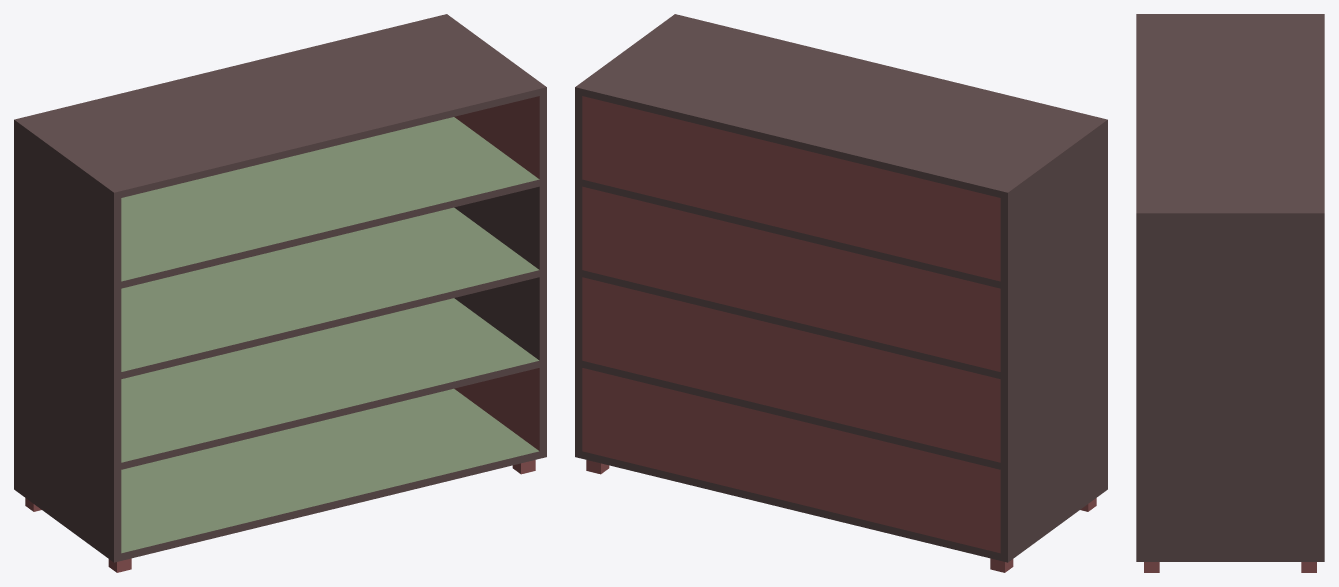
Rendered from shelf5.obj.
3 views of the same model, side by side, from view 1: azimuth 30°, elevation 25°; view 2: azimuth 150°, elevation 25°; view 3: azimuth 270°, elevation 25° (orthographic). The views are drawn at different scales.
Visible parts, largest first — view 1: Mesh1 Model; view 2: Mesh1 Model; view 3: Mesh1 Model.
Boxes of the visible parts, x1,y1,x2,y2 form: Mesh1 Model: (14, 14, 546, 572); Mesh1 Model: (575, 14, 1107, 572); Mesh1 Model: (1136, 14, 1324, 572).
Size of the model in its own units: 1.52 by 1.3 by 0.6096.
